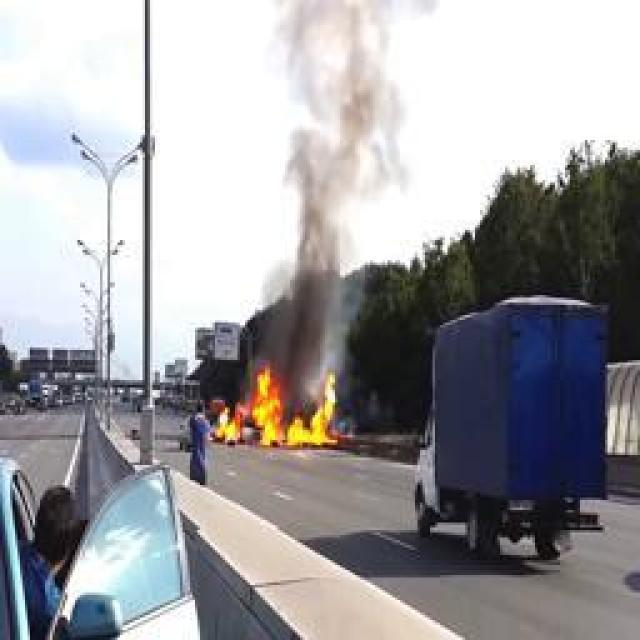Fire: (216, 366, 339, 446)
